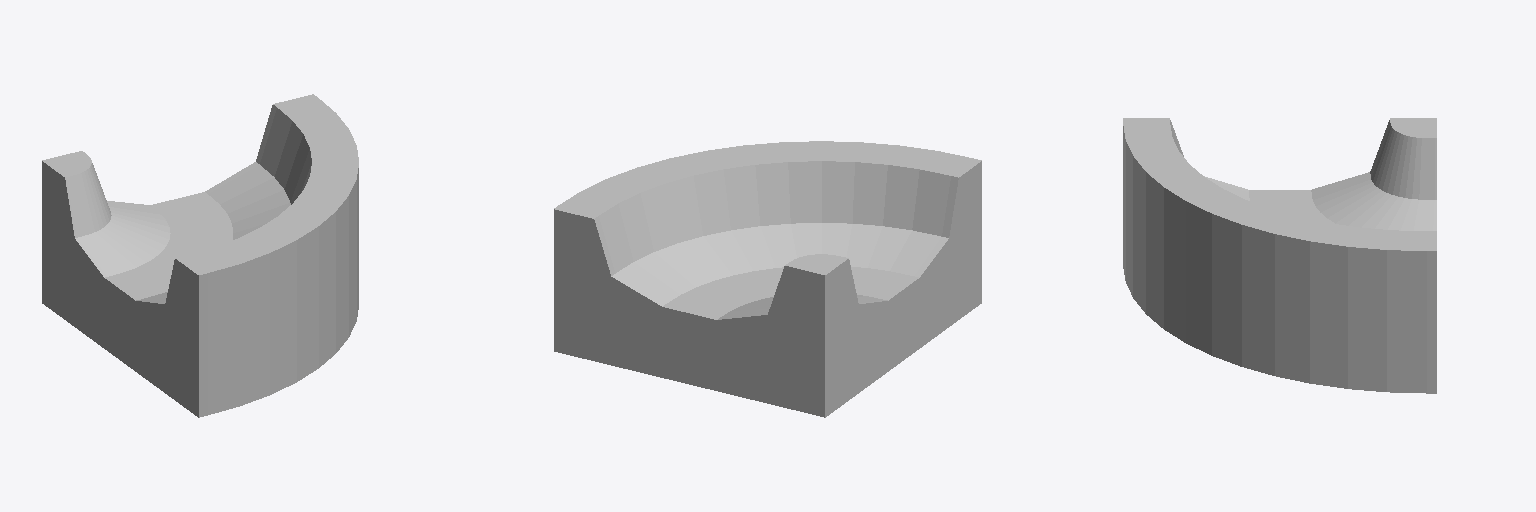
File: corner.obj
The picture shows the model from 3 angles: view 1: azimuth 30°, elevation 25°; view 2: azimuth 150°, elevation 25°; view 3: azimuth 270°, elevation 25°; orthographic projection.
Visible parts, largest first — view 1: corner; view 2: corner; view 3: corner.
Part boxes in pixels (bbox=[...]): corner: bbox=[42, 94, 358, 417]; corner: bbox=[554, 141, 981, 417]; corner: bbox=[1123, 118, 1436, 393].
Size of the model in its own units: 1 by 0.5 by 1.